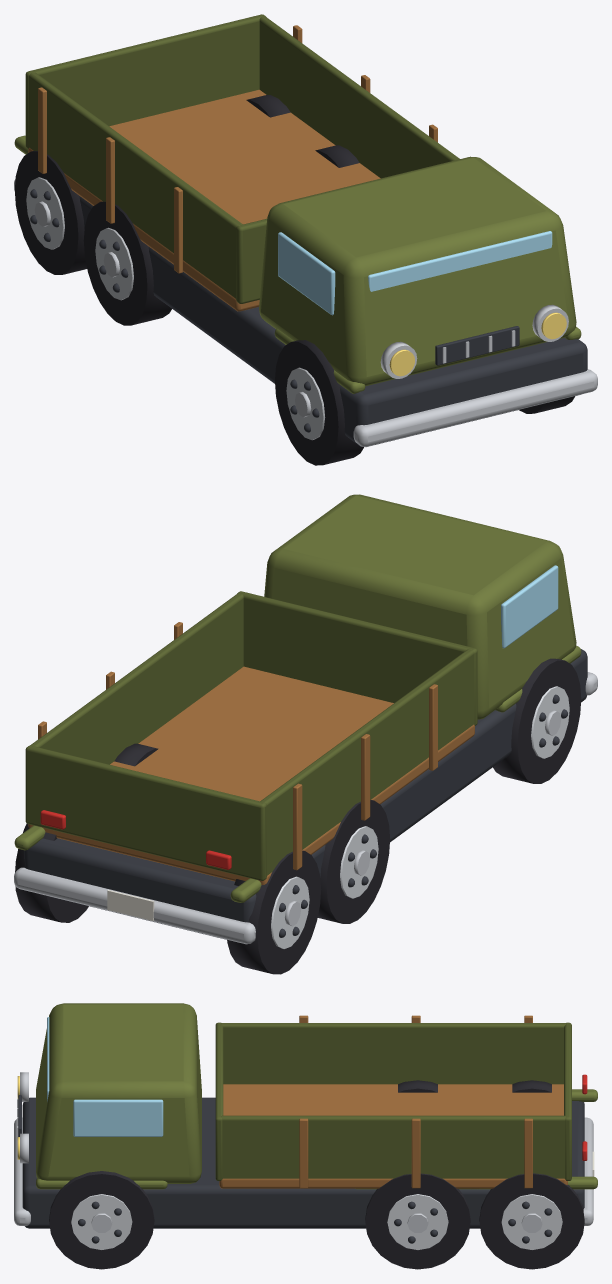
Rendered from truck.glb.
The picture shows the model from 3 angles, top to bottom: view 1: azimuth 30°, elevation 25°; view 2: azimuth 150°, elevation 25°; view 3: azimuth 270°, elevation 25°; orthographic projection. The views are drawn at different scales.
Parts seen in each view (by area): view 1: body, wheelFR, wheelMR, wheelBR, wheelBL; view 2: body, wheelFR, wheelBR, wheelMR, wheelBL; view 3: body, wheelFL, wheelBL, wheelML, wheelMR, wheelBR.
Part boxes in pixels (<box>): body: <box>14,14,597,446</box>; wheelFR: <box>275,340,363,465</box>; wheelMR: <box>83,201,171,325</box>; wheelBR: <box>14,151,87,274</box>; wheelBL: <box>246,95,290,117</box>; body: <box>14,494,597,944</box>; wheelFR: <box>493,658,581,783</box>; wheelBR: <box>227,850,321,974</box>; wheelMR: <box>317,800,390,923</box>; wheelBL: <box>15,823,88,922</box>; body: <box>14,1003,597,1228</box>; wheelFL: <box>49,1171,154,1269</box>; wheelBL: <box>479,1173,584,1269</box>; wheelML: <box>365,1173,470,1269</box>; wheelMR: <box>398,1080,437,1092</box>; wheelBR: <box>512,1080,551,1092</box>.
Size of the model in its own units: 2.83 by 2.23 by 6.65.
